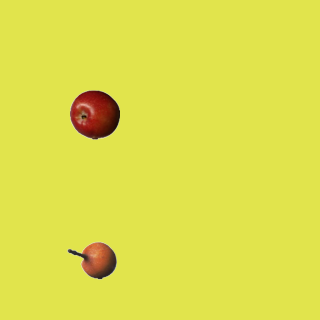Apple Braeburn: (69, 89, 119, 139)
Granadilla: (66, 235, 116, 285)
